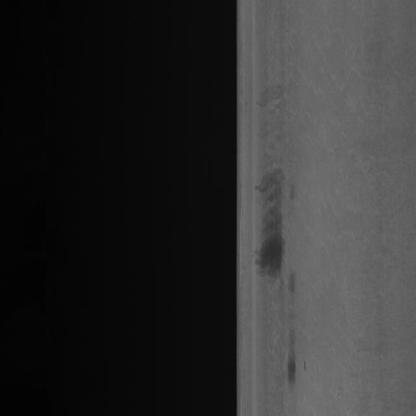oil_spot: (250, 92, 284, 284), (287, 272, 299, 388)
